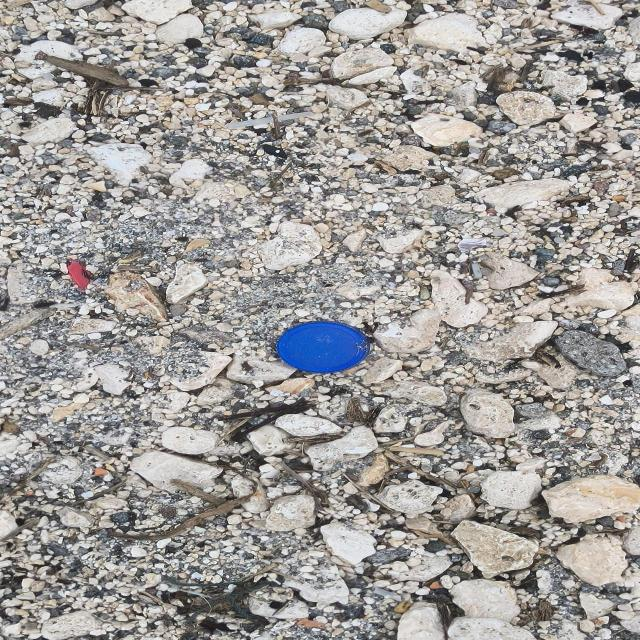plastic_waste: (279, 322, 370, 374)
